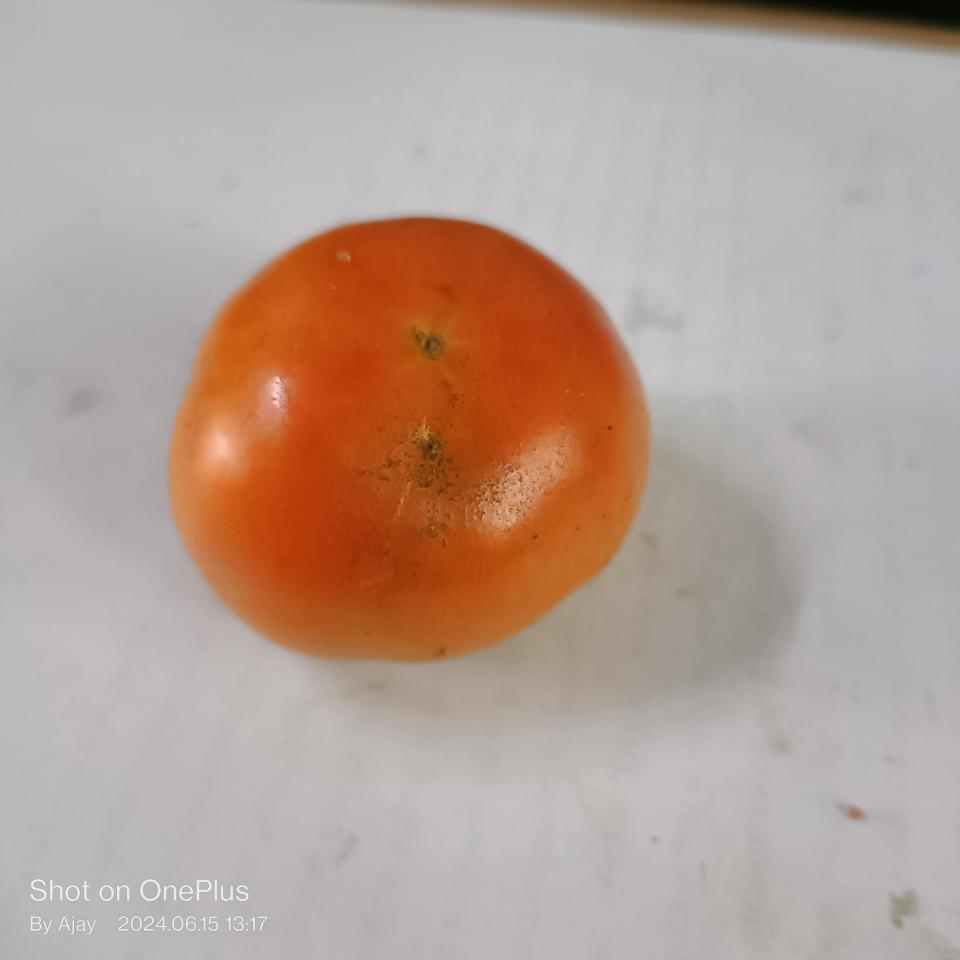Bacterial_Spot: (406, 322, 446, 363), (408, 428, 439, 456)
